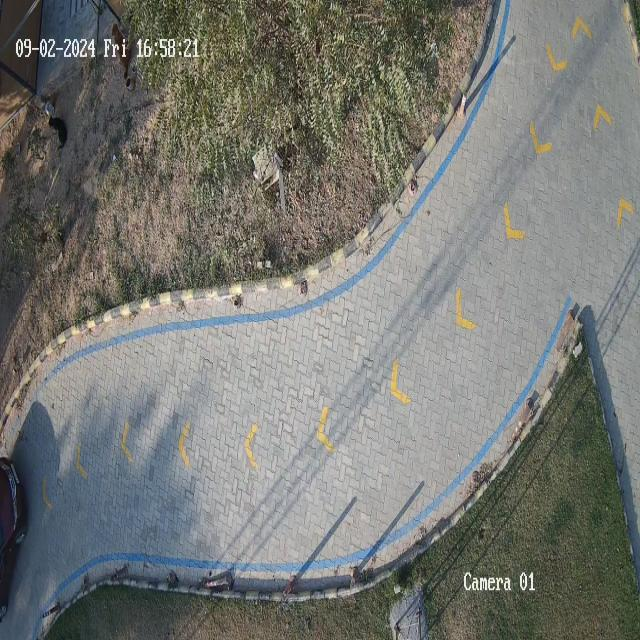car: (0, 460, 30, 627)
